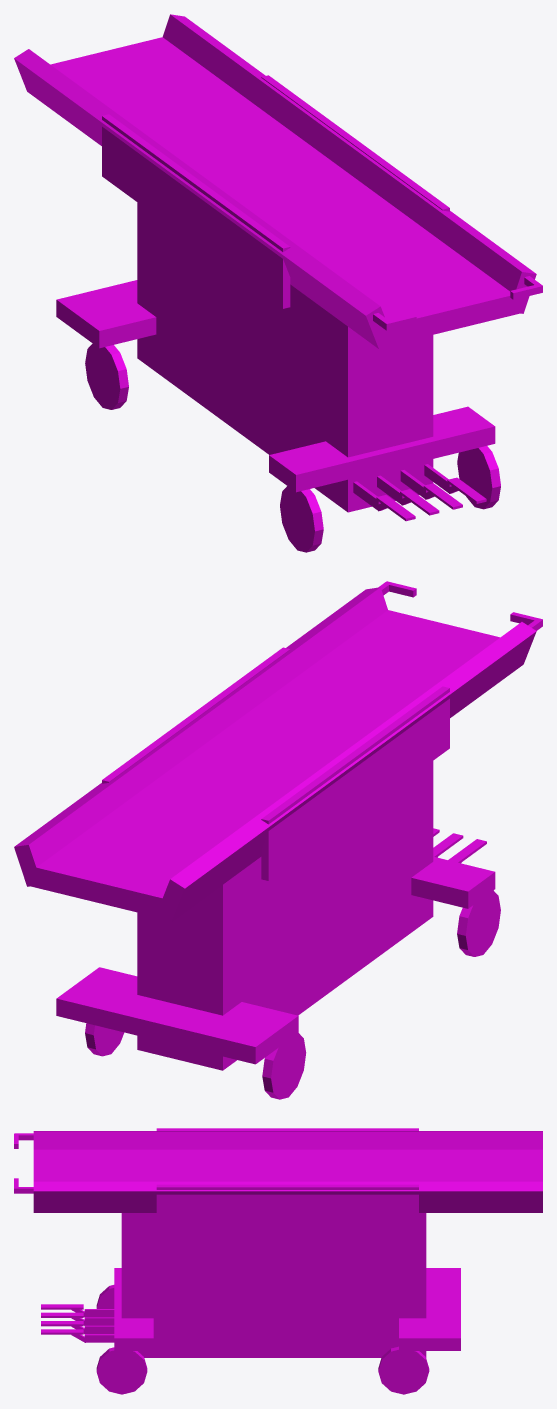
Rendered from SM_MRICartCollider.fbx.
3 views of the same model, one above another, from view 1: azimuth 30°, elevation 25°; view 2: azimuth 150°, elevation 25°; view 3: azimuth 270°, elevation 25° (orthographic). The views are drawn at different scales.
Parts seen in each view (by area): view 1: MRICartCollision; view 2: MRICartCollision; view 3: MRICartCollision.
Boxes of the visible parts, x1,y1,x2,y2 form: MRICartCollision: (14,14,542,552); MRICartCollision: (14,581,542,1099); MRICartCollision: (14,1128,542,1394).
Bounding box in the file's own units: 68.95 × 93.69 × 219.
